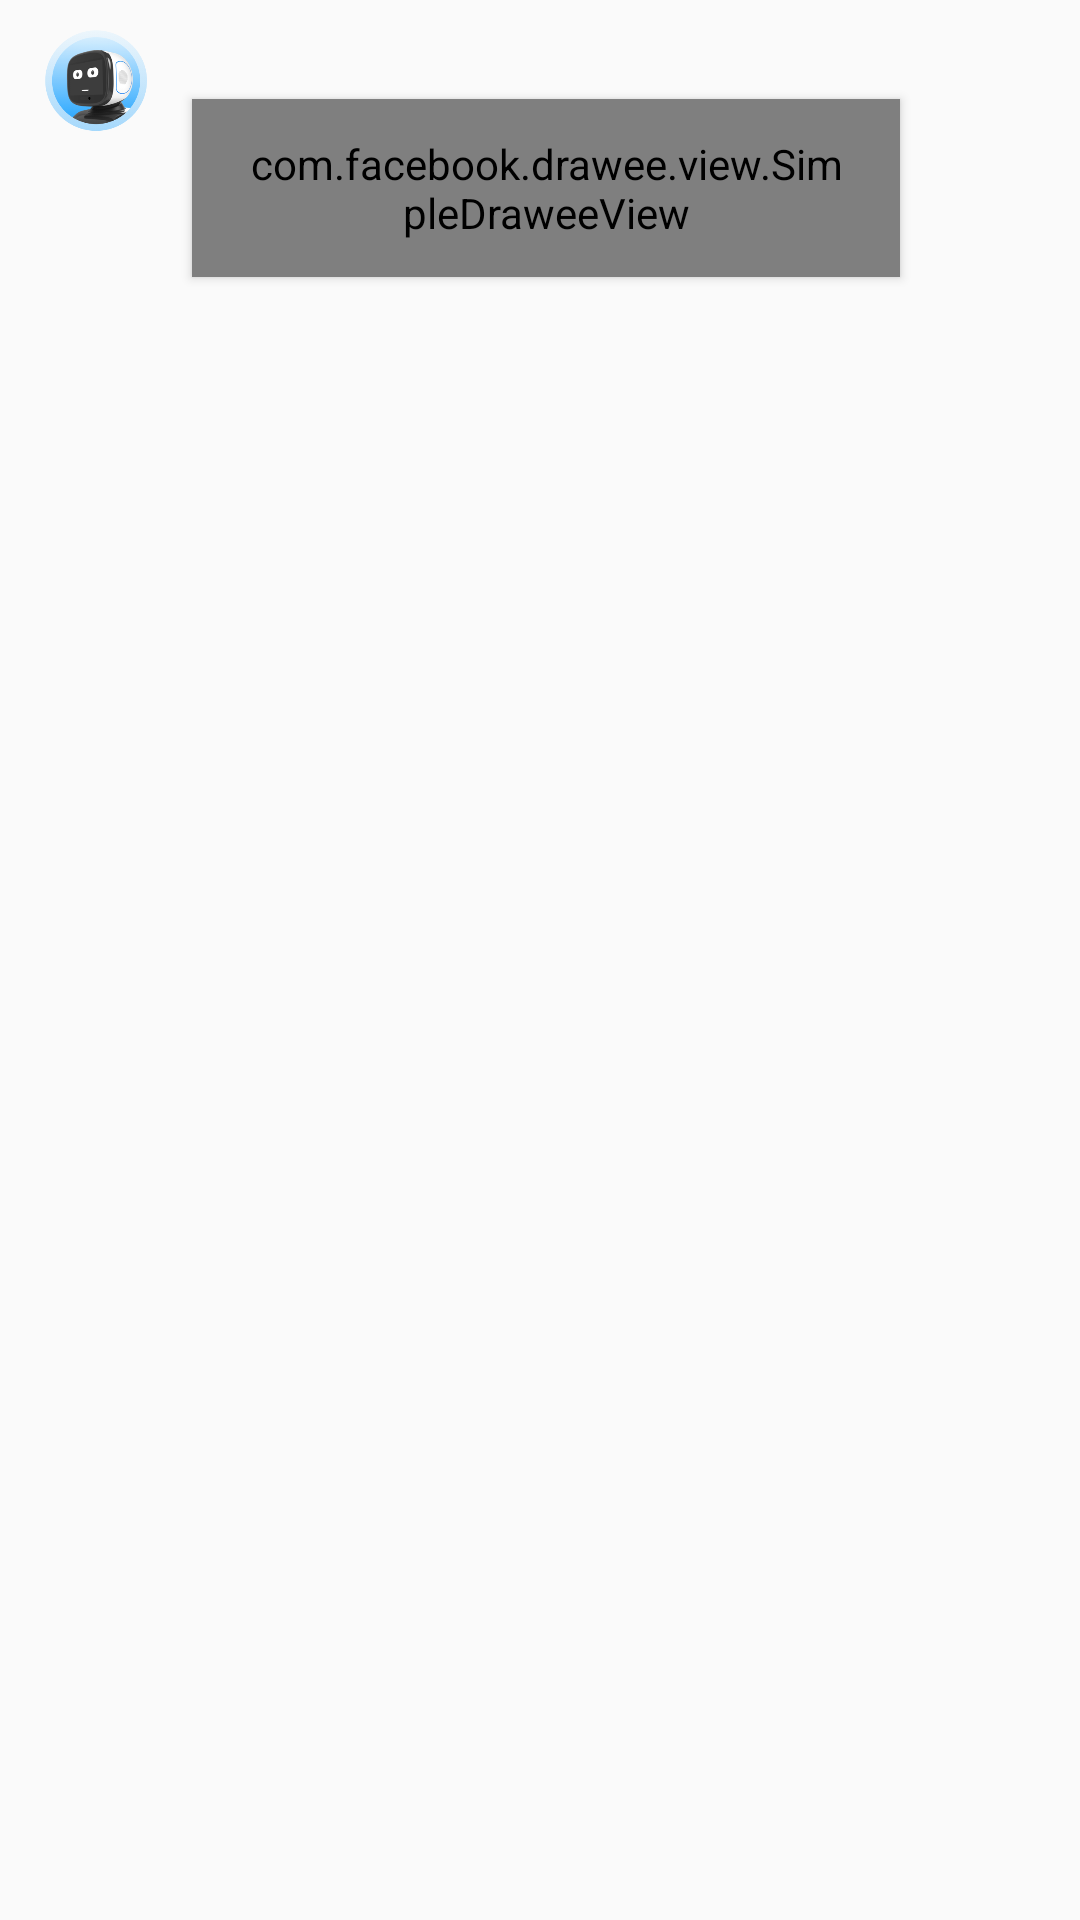

Screen size 1080 x 1920. Icon name, then its box in pixels as bbox=(x1, y1, x2, y2):
robot face: bbox=(45, 37, 147, 131)
